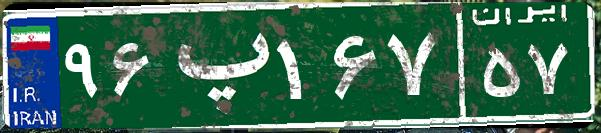1: (273, 28, 330, 110)
5: (475, 38, 525, 113)
6: (330, 28, 385, 110), (110, 28, 158, 105)
7: (385, 28, 445, 110), (525, 38, 570, 115)
9: (57, 26, 110, 107)
پ: (158, 15, 273, 115)
